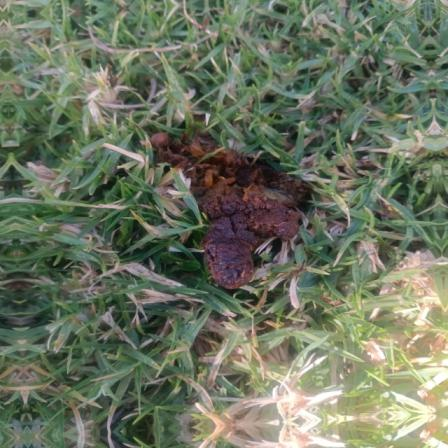dog-poop: (146, 127, 314, 283)
